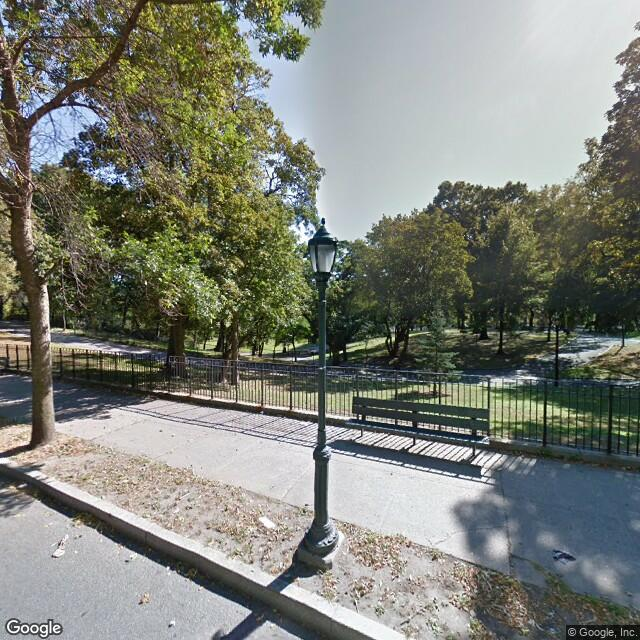litter: (551, 546, 576, 564), (255, 514, 276, 534), (298, 419, 311, 428), (256, 409, 265, 416)
